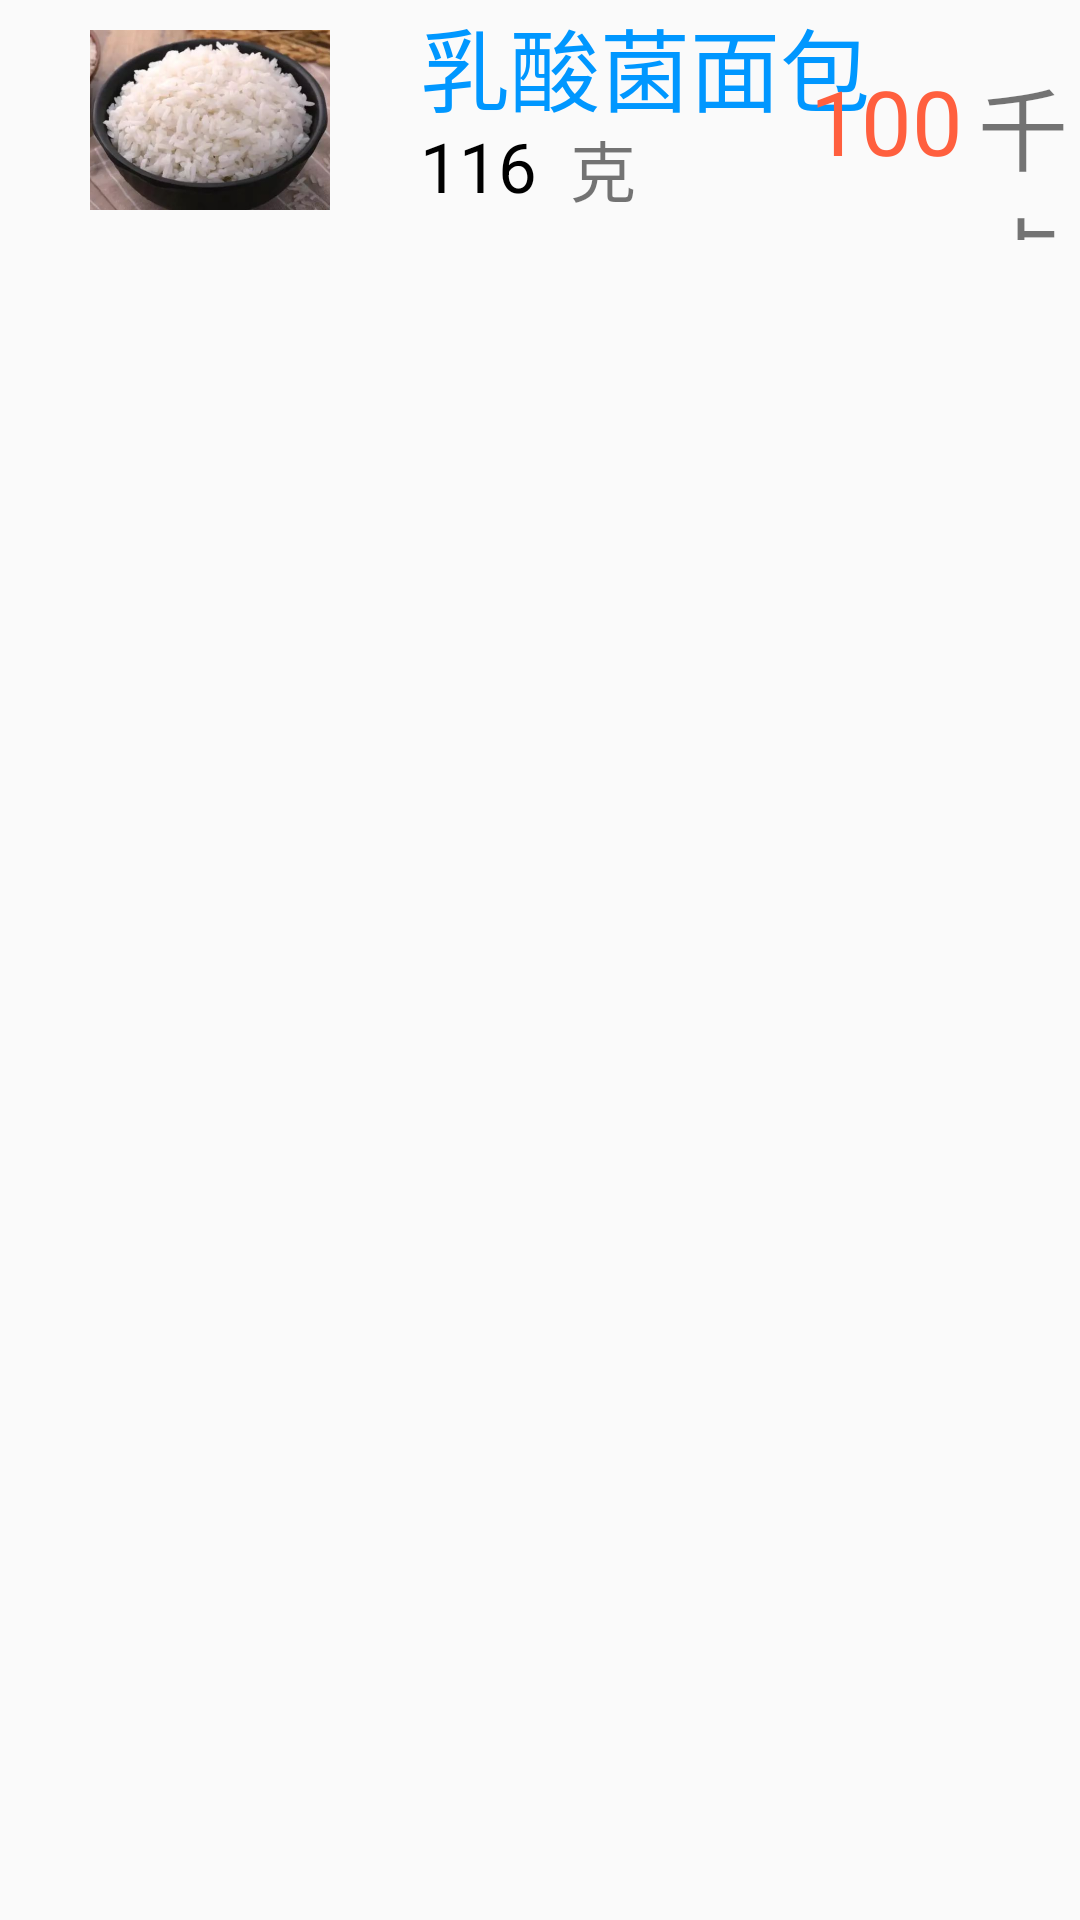

Icons on this 1080x1920 Android screen, each with the point to tap as [x,y]:
food: [210,120]
